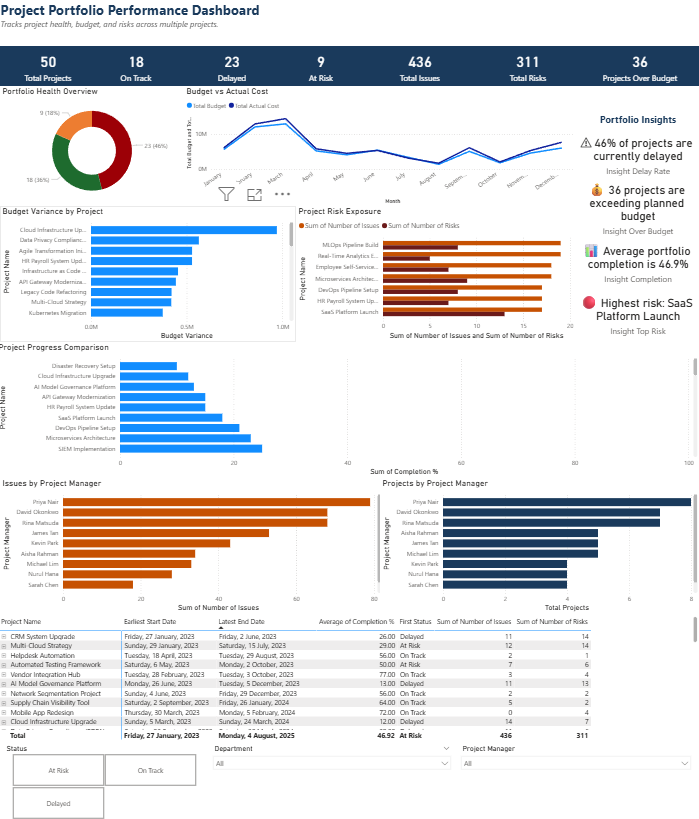

This screenshot's page, from the dashboard's own definition file:
{"tool":"powerbi","page":{"name":"Page 1","canvas":[1400,1650],"ordinal":0},"visuals":[{"type":"card","fields":{"Values":["dataset.Total Projects"]},"box":[0,96,192,80],"z":0},{"type":"card","fields":{"Values":["dataset.On Track"]},"box":[176,96,192,80],"z":1000},{"type":"card","fields":{"Values":["dataset.Delayed"]},"box":[368,96,192,80],"z":2000},{"type":"card","fields":{"Values":["dataset.At Risk"]},"box":[544,96,196,80],"z":3000},{"type":"card","fields":{"Values":["dataset.Total Issues"]},"box":[736,96,208,80],"z":4000},{"type":"card","fields":{"Values":["dataset.Total Risks"]},"box":[944,96,224,80],"z":5000},{"type":"clusteredBarChart","title":"Project Progress Comparison","fields":{"Category":["dataset.Project Name"],"Y":["Sum(dataset.Completion %)"]},"box":[-8,688,1408,272],"z":6000},{"type":"lineChart","title":"Budget vs Actual Cost","fields":{"Y":["dataset.Total Budget","dataset.Total Actual Cost"],"Category":["dataset.Start Date.Variation.Date Hierarchy.Month"]},"box":[368,176,784,240],"z":7000},{"type":"pivotTable","fields":{"Rows":["dataset.Project Name","dataset.Project Manager"],"Values":["Min(dataset.Start Date)","Max(dataset.End Date)","Avg(dataset.Completion %)","Min(dataset.Status)","Sum(dataset.Number of Issues)","Sum(dataset.Number of Risks)"]},"box":[-8,1232,1408,256],"z":8000},{"type":"slicer","fields":{"Values":["dataset.Status"]},"box":[0,1488,416,160],"z":9000},{"type":"slicer","fields":{"Values":["dataset.Department"]},"box":[416,1488,496,160],"z":10000},{"type":"slicer","fields":{"Values":["dataset.Project Manager"]},"box":[912,1488,480,160],"z":11000},{"type":"textbox","box":[-4,0,1904,96],"z":12000},{"type":"donutChart","title":"Portfolio Health Overview","fields":{"Category":["dataset.Project Health"],"Y":["dataset.Total Projects"]},"box":[0,176,368,240],"z":13000},{"type":"clusteredBarChart","title":"Project Risk Exposure","fields":{"Category":["dataset.Project Name"],"Y":["Sum(dataset.Number of Issues)","Sum(dataset.Number of Risks)"]},"box":[592,416,560,272],"z":14000},{"type":"clusteredBarChart","title":"Budget Variance by Project","fields":{"Category":["dataset.Project Name"],"Y":["dataset.Budget Variance"]},"box":[0,416,592,272],"z":15000},{"type":"clusteredBarChart","title":"Issues by Project Manager","fields":{"Category":["dataset.Project Manager"],"Y":["Sum(dataset.Number of Issues)"]},"box":[0,960,768,272],"z":16000},{"type":"clusteredBarChart","title":"Projects by Project Manager","fields":{"Category":["dataset.Project Manager"],"Y":["dataset.Total Projects"]},"box":[760,960,640,272],"z":17000},{"type":"card","fields":{"Values":["dataset.Projects Over Budget"]},"box":[1160,96,240,80],"z":18000},{"type":"card","fields":{"Values":["dataset.Insight Delay Rate"]},"box":[1152,264,248,96],"z":18001},{"type":"card","fields":{"Values":["dataset.Insight Over Budget"]},"box":[1152,360,248,120],"z":18002},{"type":"card","fields":{"Values":["dataset.Insight Completion"]},"box":[1152,480,248,96],"z":18003},{"type":"card","fields":{"Values":["dataset.Insight Top Risk"]},"box":[1152,576,248,112],"z":18004},{"type":"textbox","box":[1152,224,248,40],"z":18005}]}

Visuals, with their boxes in screenshot pixels (x1, y1, x2, y2), scaled from the page's 1400x1650 canvas onto the 699x819 screenshot:
card - dataset.Total Projects: bbox(0, 48, 96, 87)
card - dataset.On Track: bbox(88, 48, 184, 87)
card - dataset.Delayed: bbox(184, 48, 280, 87)
card - dataset.At Risk: bbox(272, 48, 369, 87)
card - dataset.Total Issues: bbox(367, 48, 471, 87)
card - dataset.Total Risks: bbox(471, 48, 583, 87)
"Project Progress Comparison" clusteredBarChart: bbox(0, 341, 698, 477)
"Budget vs Actual Cost" lineChart: bbox(184, 87, 575, 206)
pivotTable - dataset.Project Name x dataset.Project Manager: bbox(0, 612, 698, 739)
slicer - dataset.Status: bbox(0, 739, 208, 818)
slicer - dataset.Department: bbox(208, 739, 455, 818)
slicer - dataset.Project Manager: bbox(455, 739, 695, 818)
textbox: bbox(0, 0, 698, 48)
"Portfolio Health Overview" donutChart: bbox(0, 87, 184, 206)
"Project Risk Exposure" clusteredBarChart: bbox(296, 206, 575, 341)
"Budget Variance by Project" clusteredBarChart: bbox(0, 206, 296, 341)
"Issues by Project Manager" clusteredBarChart: bbox(0, 477, 383, 612)
"Projects by Project Manager" clusteredBarChart: bbox(379, 477, 698, 612)
card - dataset.Projects Over Budget: bbox(579, 48, 698, 87)
card - dataset.Insight Delay Rate: bbox(575, 131, 698, 179)
card - dataset.Insight Over Budget: bbox(575, 179, 698, 238)
card - dataset.Insight Completion: bbox(575, 238, 698, 286)
card - dataset.Insight Top Risk: bbox(575, 286, 698, 341)
textbox: bbox(575, 111, 698, 131)
